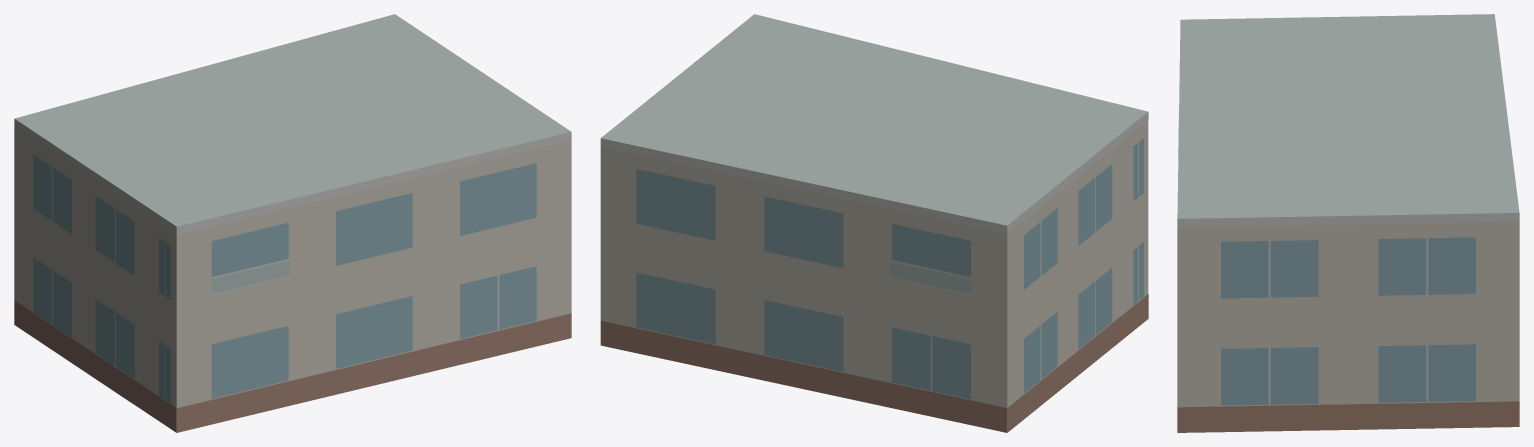
The model's file is survey-upis-32542870.glb.
3 renders of one model, left to right at view 1: azimuth 30°, elevation 25°; view 2: azimuth 150°, elevation 25°; view 3: azimuth 270°, elevation 25°, orthographic. The views are drawn at different scales.
Visible parts, largest first — view 1: survey-upis-32542870.tmp; view 2: survey-upis-32542870.tmp; view 3: survey-upis-32542870.tmp.
Boxes of the visible parts, bbox=[...] form: survey-upis-32542870.tmp: bbox=[14, 14, 571, 432]; survey-upis-32542870.tmp: bbox=[600, 14, 1148, 432]; survey-upis-32542870.tmp: bbox=[1177, 14, 1519, 432].
Size of the model in its own units: 12.53 by 6.1 by 8.85.
